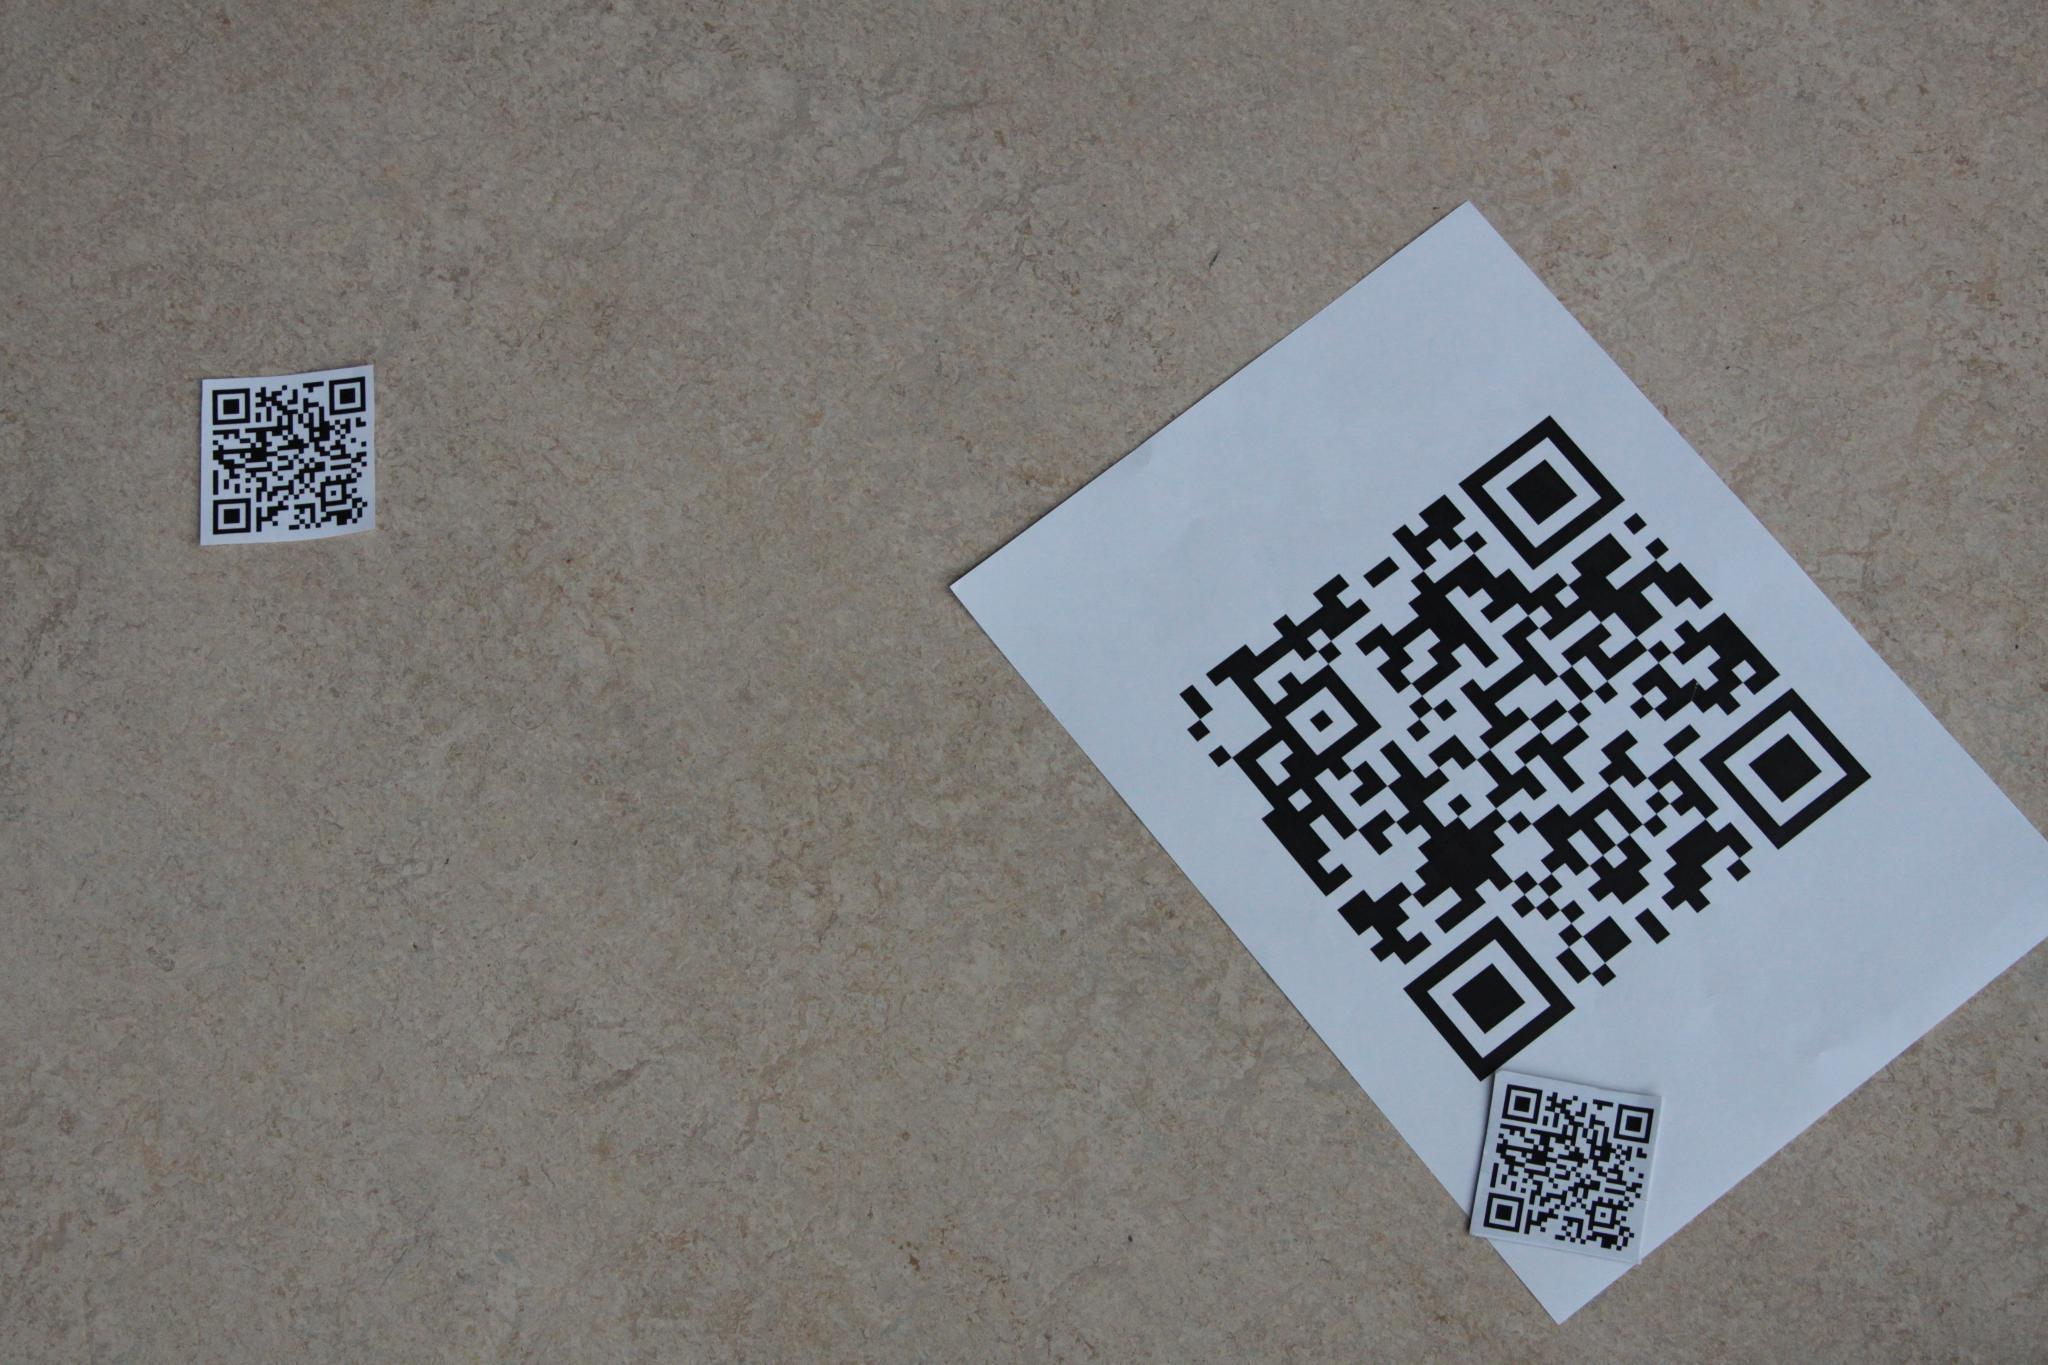Finder pattern: (1692, 681, 1874, 846), (1408, 922, 1573, 1079), (1460, 413, 1631, 558), (206, 487, 254, 545), (1500, 1079, 1546, 1130), (209, 382, 257, 430), (1613, 1098, 1657, 1146), (326, 375, 370, 417), (1482, 1191, 1527, 1232)
